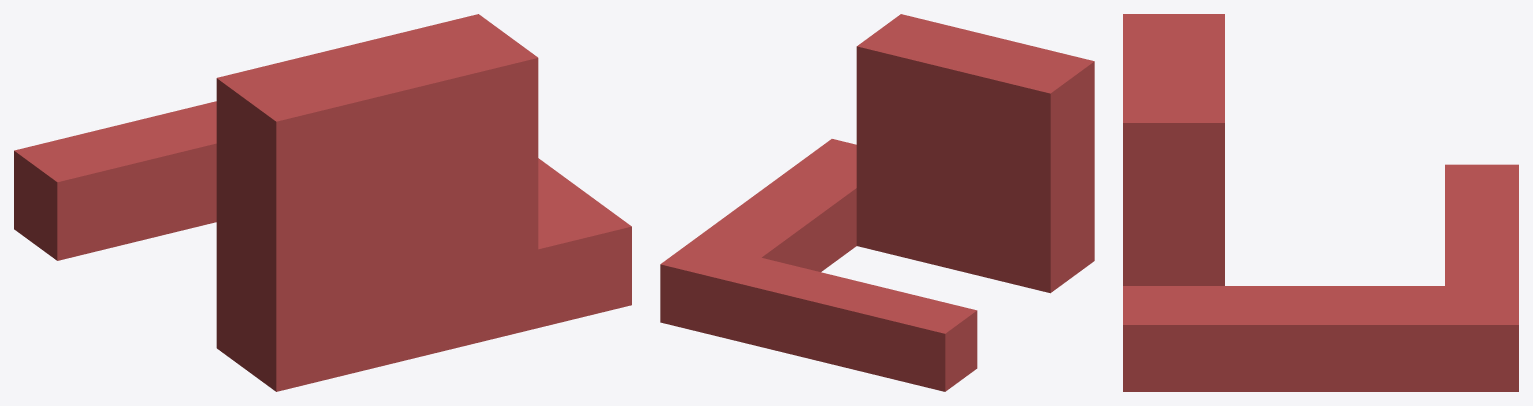
The picture shows the model from 3 angles, left to right: view 1: azimuth 30°, elevation 25°; view 2: azimuth 150°, elevation 25°; view 3: azimuth 270°, elevation 25°; orthographic projection. The views are drawn at different scales.
Parts seen in each view (by area): view 1: pCube1; view 2: pCube1; view 3: pCube1.
Part boxes in pixels (bbox=[...]): pCube1: bbox=[14, 14, 631, 391]; pCube1: bbox=[660, 14, 1094, 391]; pCube1: bbox=[1123, 14, 1518, 391].
Size of the model in its own units: 20.54 by 13.76 by 21.44.
